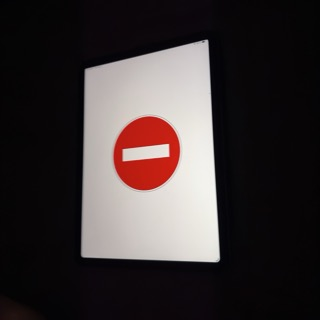NO ENTRY: (112, 114, 183, 191)
